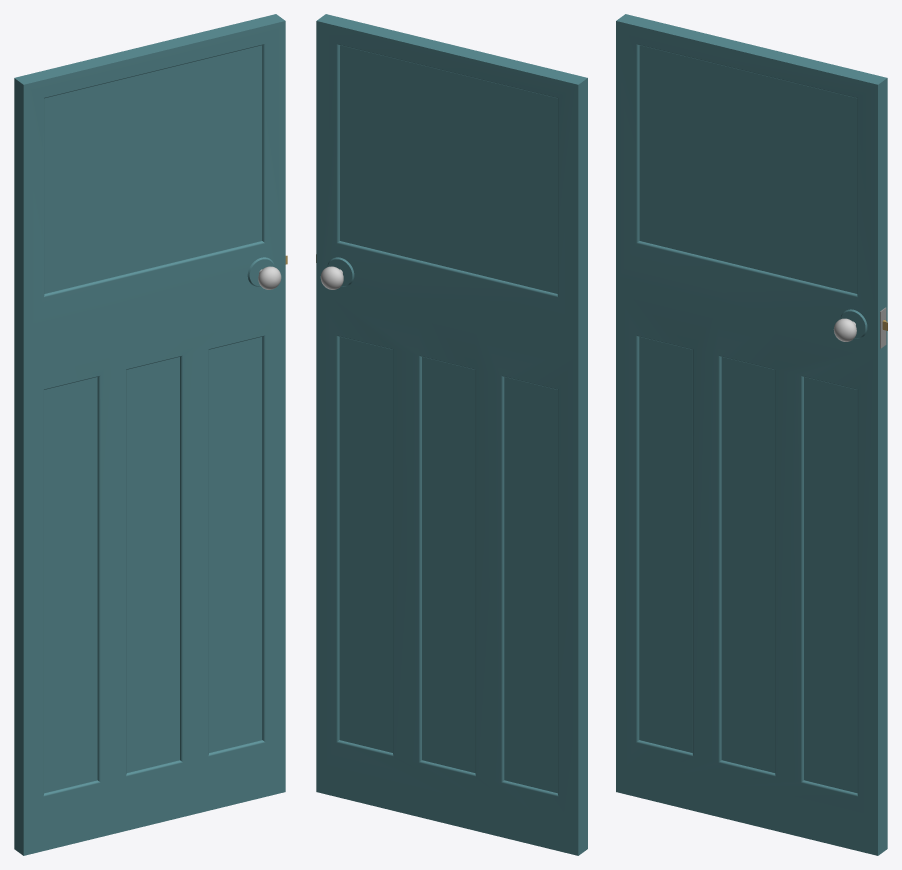
Rendered from door.fbx.
3 renders of one model, left to right at view 1: azimuth 30°, elevation 25°; view 2: azimuth 150°, elevation 25°; view 3: azimuth 330°, elevation 25°, orthographic.
Parts seen in each view (by area): view 1: door; view 2: door; view 3: door.
Boxes of the visible parts, box(x1,y1,x2,y2) form: door: box(14, 14, 287, 855); door: box(316, 14, 587, 855); door: box(616, 14, 887, 855).
Bounding box in the file's own units: 81.83 × 19.18 × 225.
